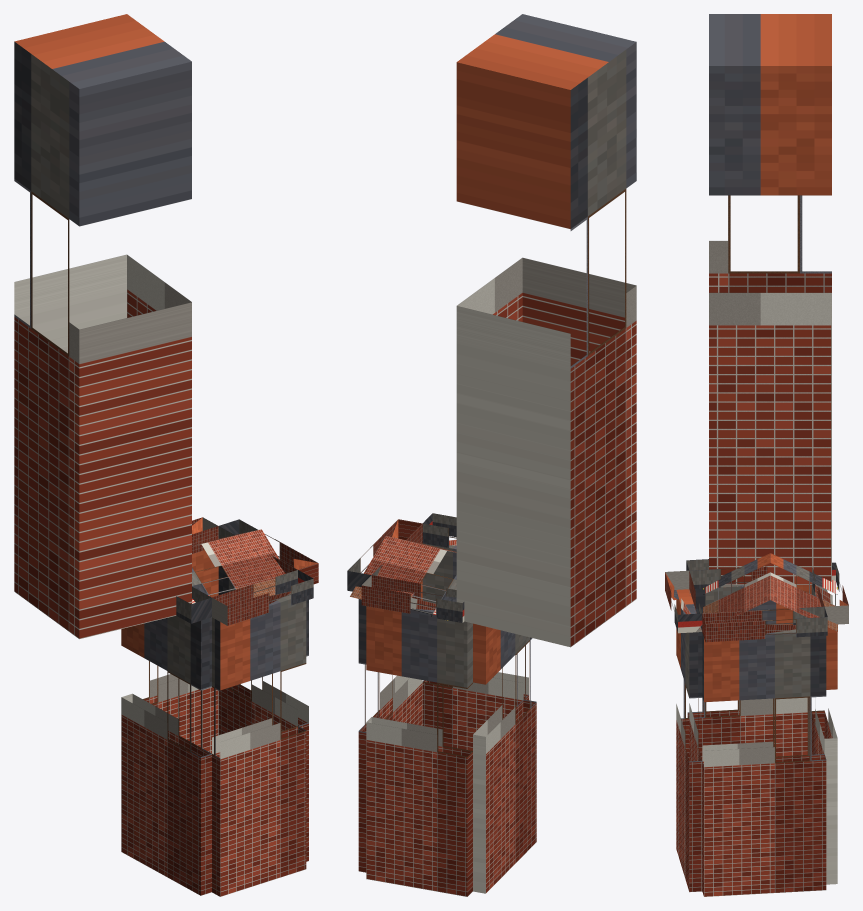
The picture shows the model from 3 angles, left to right: view 1: azimuth 30°, elevation 25°; view 2: azimuth 150°, elevation 25°; view 3: azimuth 270°, elevation 25°; orthographic projection. The views are drawn at different scales.
Parts seen in each view (by area): view 1: 1106965473__chimney_0_xb, 1106965473__wall_1_xb, 1106965473__wall_2_xb, 1106965473__wall_0_xb, 1106965473__wall_3_xb, 1106965473_roof_-1_xb, 1106965473__cornice_1, 1106965473__cornice_0, 1106965473__cornice_2, 1106965473__cornice_3; view 2: 1106965473__chimney_0_xb, 1106965473__wall_3_xb, 1106965473__wall_2_xb, 1106965473__wall_1_xb, 1106965473__wall_0_xb, 1106965473_roof_1_xb, 1106965473__cornice_3, 1106965473__cornice_0, 1106965473__cornice_1; view 3: 1106965473__chimney_0_xb, 1106965473__wall_0_xb, 1106965473__wall_1_xb, 1106965473__wall_2_xb, 1106965473__wall_3_xb, 1106965473__cornice_0, 1106965473_roof_-1_xb, 1106965473_roof_1_xb, 1106965473__cornice_1, 1106965473__cornice_2, 1106965473__cornice_3.
Part boxes in pixels (x1=…): 1106965473__chimney_0_xb: x1=14, y1=14, x2=191, y2=639; 1106965473__wall_1_xb: x1=212, y1=593, x2=306, y2=896; 1106965473__wall_2_xb: x1=121, y1=615, x2=211, y2=895; 1106965473__wall_0_xb: x1=218, y1=566, x2=308, y2=861; 1106965473__wall_3_xb: x1=143, y1=550, x2=218, y2=753; 1106965473_roof_-1_xb: x1=192, y1=529, x2=285, y2=603; 1106965473__cornice_1: x1=212, y1=570, x2=313, y2=625; 1106965473__cornice_0: x1=218, y1=519, x2=318, y2=584; 1106965473__cornice_2: x1=176, y1=587, x2=211, y2=623; 1106965473__cornice_3: x1=192, y1=517, x2=218, y2=553; 1106965473__chimney_0_xb: x1=456, y1=14, x2=636, y2=647; 1106965473__wall_3_xb: x1=366, y1=606, x2=472, y2=896; 1106965473__wall_2_xb: x1=473, y1=623, x2=536, y2=893; 1106965473__wall_1_xb: x1=422, y1=543, x2=528, y2=750; 1106965473__wall_0_xb: x1=358, y1=580, x2=422, y2=872; 1106965473_roof_1_xb: x1=350, y1=536, x2=456, y2=620; 1106965473__cornice_3: x1=361, y1=575, x2=464, y2=622; 1106965473__cornice_0: x1=347, y1=519, x2=422, y2=591; 1106965473__cornice_1: x1=422, y1=513, x2=456, y2=547; 1106965473__chimney_0_xb: x1=709, y1=14, x2=831, y2=584; 1106965473__wall_0_xb: x1=702, y1=629, x2=826, y2=896; 1106965473__wall_1_xb: x1=676, y1=589, x2=702, y2=892; 1106965473__wall_2_xb: x1=687, y1=585, x2=811, y2=759; 1106965473__wall_3_xb: x1=811, y1=585, x2=837, y2=884; 1106965473__cornice_0: x1=702, y1=606, x2=827, y2=642; 1106965473_roof_-1_xb: x1=703, y1=553, x2=770, y2=622; 1106965473_roof_1_xb: x1=770, y1=553, x2=837, y2=631; 1106965473__cornice_1: x1=665, y1=570, x2=702, y2=633; 1106965473__cornice_2: x1=686, y1=559, x2=767, y2=588; 1106965473__cornice_3: x1=812, y1=562, x2=848, y2=624.
Size of the model in its own units: 0.3159 by 1.05 by 0.2248.
Materials: 1 (1 with a texture image).
